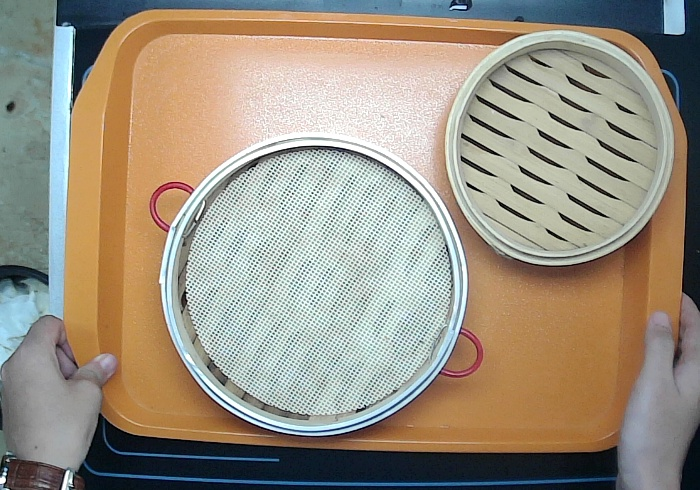ZNLD-Da_Zheng_Long: (138, 126, 491, 445)
ZNLD-Xiao_Zheng_Long: (436, 19, 683, 281)
